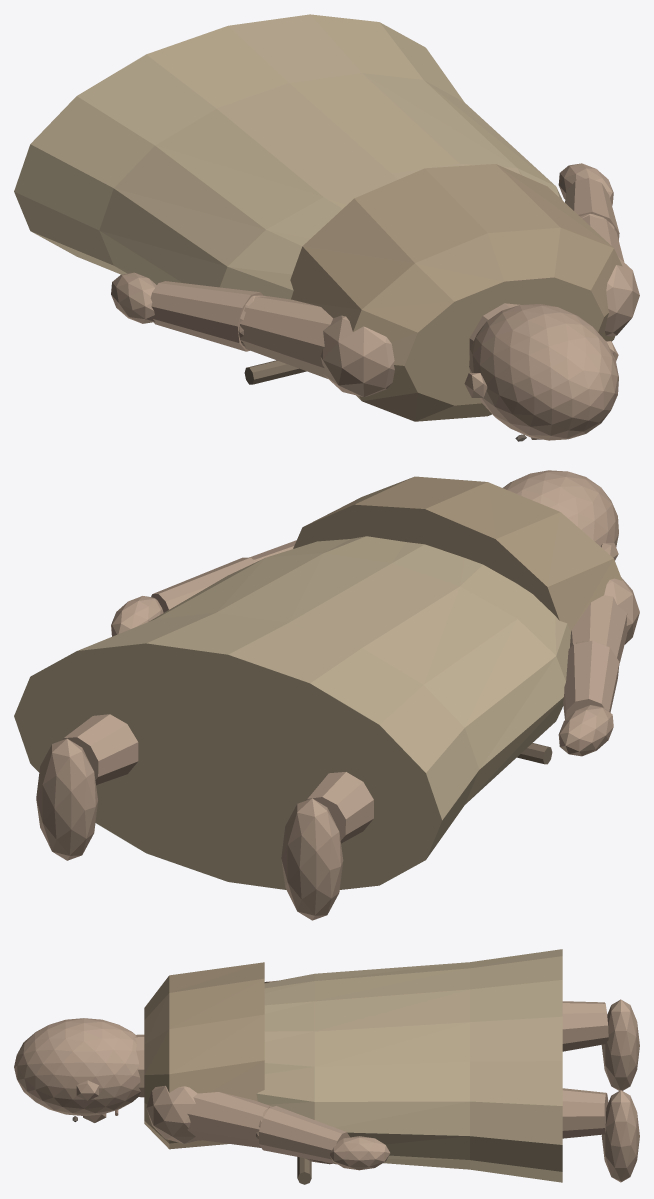
Rendered from woman_stocky__thinker.glb.
3 renders of one model, top to bottom at view 1: azimuth 30°, elevation 25°; view 2: azimuth 150°, elevation 25°; view 3: azimuth 270°, elevation 25°, orthographic. The views are drawn at different scales.
Visible parts, largest first — view 1: part_027, part_031, part_010, part_018, part_020, part_017, part_022, part_021, part_025, part_026, part_028, part_023; view 2: part_027, part_031, part_003, part_007, part_010, part_020, part_006, part_002, part_018, part_021, part_025, part_026 (+1 smaller); view 3: part_027, part_031, part_010, part_023, part_025, part_007, part_003, part_022, part_002, part_006, part_026, part_009 (+2 smaller).
Part boxes in pixels (box(x1,y1,x2,y2)): part_027: box(14, 14, 562, 299); part_031: box(290, 164, 622, 421); part_010: box(469, 304, 618, 440); part_018: box(240, 295, 332, 378); part_020: box(150, 281, 262, 351); part_017: box(320, 315, 394, 396); part_022: box(605, 257, 639, 336); part_021: box(111, 272, 156, 323); part_025: box(565, 178, 619, 240); part_026: box(558, 163, 613, 205); part_028: box(244, 360, 306, 384); part_023: box(582, 215, 624, 261); part_027: box(14, 536, 570, 889); part_031: box(293, 476, 622, 631); part_003: box(281, 798, 343, 920); part_007: box(36, 738, 97, 860); part_010: box(503, 470, 618, 546); part_020: box(563, 640, 619, 719); part_006: box(62, 714, 138, 784); part_002: box(305, 772, 373, 843); part_018: box(570, 595, 627, 663); part_021: box(558, 705, 613, 756); part_025: box(151, 557, 255, 612); part_026: box(111, 596, 163, 636); part_027: box(256, 949, 562, 1182); part_031: box(144, 962, 264, 1149); part_010: box(14, 1018, 140, 1115); part_023: box(187, 1092, 272, 1147); part_025: box(259, 1106, 349, 1164); part_007: box(601, 1090, 639, 1182); part_003: box(601, 999, 639, 1090); part_022: box(146, 1085, 198, 1143); part_002: box(562, 1001, 608, 1051); part_006: box(562, 1088, 608, 1138); part_026: box(330, 1136, 390, 1170); part_009: box(134, 1034, 144, 1097).
Size of the model in its own units: 1.61 by 0.725 by 2.37.
